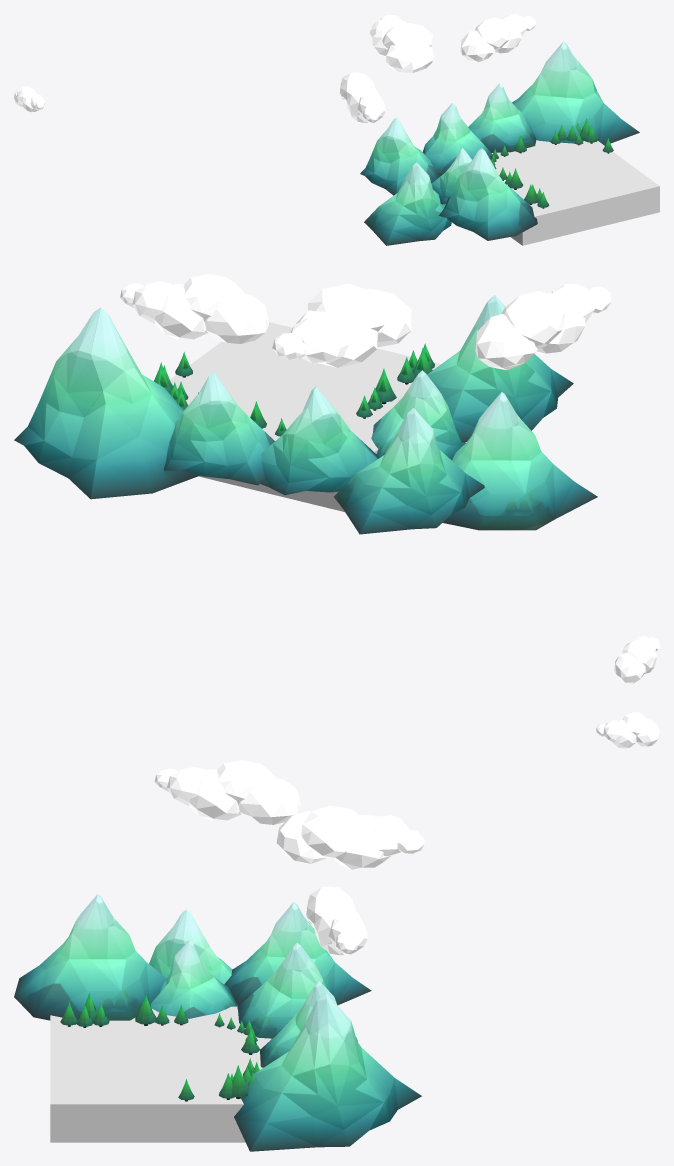
3 views of the same model, one above another, from view 1: azimuth 30°, elevation 25°; view 2: azimuth 150°, elevation 25°; view 3: azimuth 270°, elevation 25° (orthographic). The views are drawn at different scales.
Visible parts, largest first — view 1: PINGTAI, 柱体.003, 柱体.002, 柱体.006, 柱体.001, yun.001, 柱体, yun.002, 柱体.004, yun.003, 柱体.005, yun; view 2: 柱体.003, PINGTAI, 柱体.006, 柱体.001, yun.001, 柱体.002, 柱体, 柱体.004, yun.002, yun.003, 柱体.005, yun; view 3: PINGTAI, 柱体.003, 柱体.002, yun.001, yun.003, 柱体.001, 柱体.004, 柱体.005, yun.002, 柱体.006, yun, 柱体.
Boxes of the visible parts, x1=… form: PINGTAI: x1=490, y1=140, x2=659, y2=245; 柱体.003: x1=512, y1=41, x2=639, y2=145; 柱体.002: x1=439, y1=148, x2=537, y2=240; 柱体.006: x1=364, y1=162, x2=451, y2=245; 柱体.001: x1=360, y1=118, x2=441, y2=195; yun.001: x1=369, y1=14, x2=433, y2=72; 柱体: x1=468, y1=83, x2=536, y2=152; yun.002: x1=460, y1=14, x2=535, y2=62; 柱体.004: x1=423, y1=103, x2=492, y2=174; yun.003: x1=339, y1=72, x2=385, y2=122; 柱体.005: x1=431, y1=148, x2=471, y2=204; yun: x1=14, y1=86, x2=44, y2=112; 柱体.003: x1=14, y1=307, x2=199, y2=499; PINGTAI: x1=170, y1=322, x2=440, y2=511; 柱体.006: x1=442, y1=392, x2=597, y2=530; 柱体.001: x1=334, y1=407, x2=484, y2=534; yun.001: x1=272, y1=283, x2=411, y2=367; 柱体.002: x1=427, y1=295, x2=573, y2=442; 柱体: x1=164, y1=372, x2=274, y2=485; 柱体.004: x1=261, y1=386, x2=379, y2=495; yun.002: x1=120, y1=274, x2=268, y2=343; yun.003: x1=475, y1=284, x2=611, y2=370; 柱体.005: x1=371, y1=370, x2=465, y2=460; yun: x1=614, y1=636, x2=659, y2=683; PINGTAI: x1=50, y1=1006, x2=271, y2=1142; 柱体.003: x1=234, y1=992, x2=421, y2=1151; 柱体.002: x1=14, y1=894, x2=166, y2=1020; yun.001: x1=276, y1=805, x2=424, y2=869; yun.003: x1=154, y1=760, x2=300, y2=824; 柱体.001: x1=224, y1=902, x2=371, y2=1005; 柱体.004: x1=237, y1=943, x2=326, y2=1038; 柱体.005: x1=151, y1=940, x2=238, y2=1018; yun.002: x1=306, y1=886, x2=367, y2=955; 柱体.006: x1=149, y1=909, x2=232, y2=984; yun: x1=596, y1=712, x2=659, y2=749; 柱体: x1=260, y1=980, x2=357, y2=1067.
Size of what is drawn, in the model's own units: 39.22 by 11.68 by 30.75.
4 materials, 2 textured.
